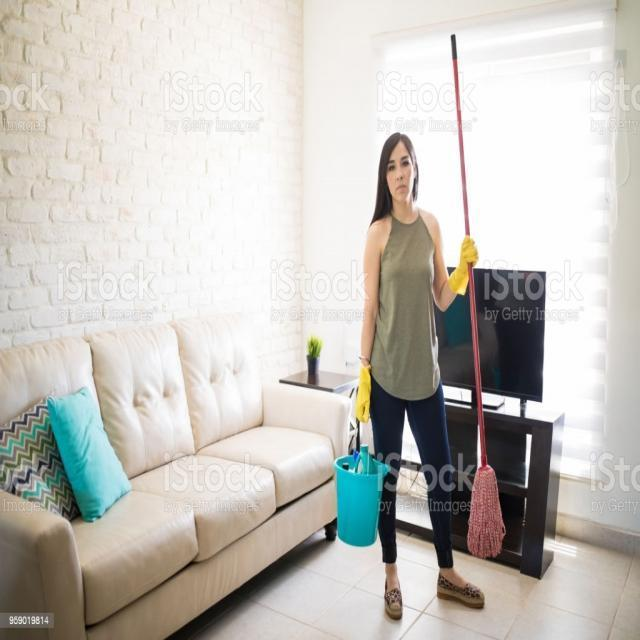walking: (345, 134, 495, 625)
